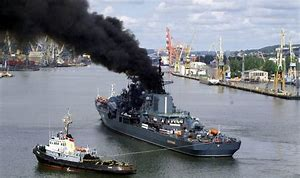smoke: (1, 1, 162, 87)
